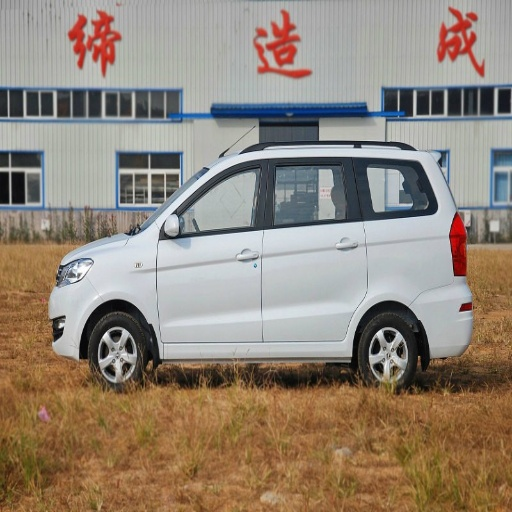back_left_door: (265, 157, 368, 343)
front_left_door: (157, 158, 265, 345)
